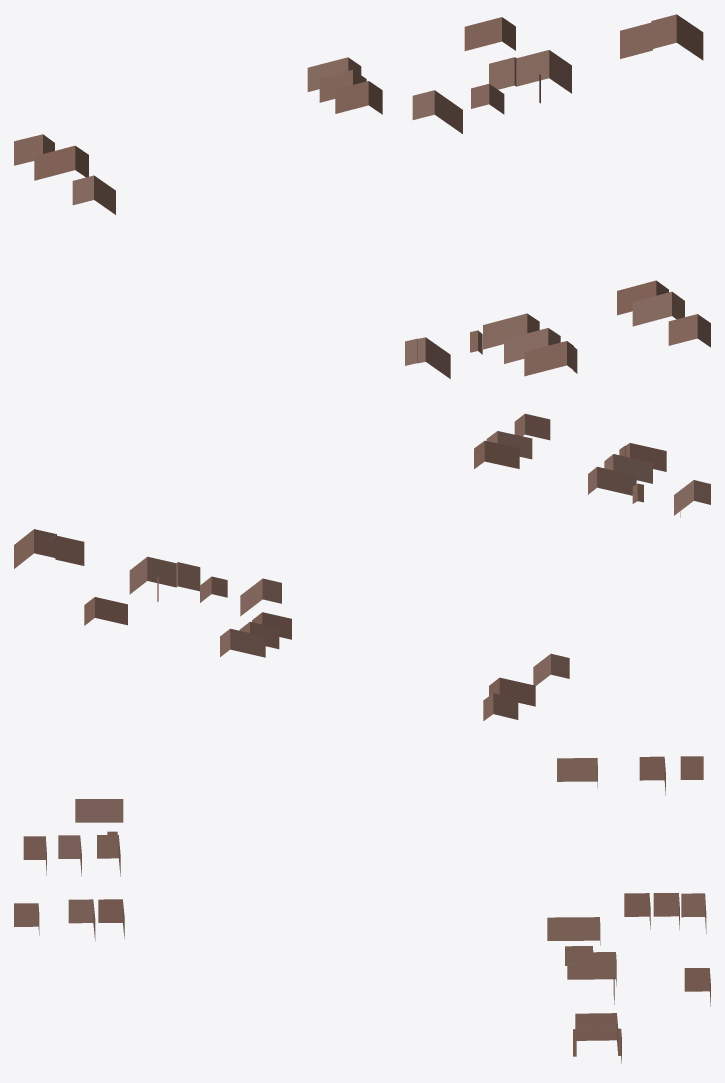
File: c_1633_17824_buildings_residential.glb
3 renders of one model, top to bottom at view 1: azimuth 30°, elevation 25°; view 2: azimuth 150°, elevation 25°; view 3: azimuth 270°, elevation 25°, orthographic. The views are drawn at different scales.
Parts seen in each view (by area): view 1: geometry_0; view 2: geometry_0; view 3: geometry_0.
Boxes of the visible parts, x1,y1,x2,y2 form: geometry_0: (14,14,710,378); geometry_0: (14,413,710,720); geometry_0: (14,756,710,1063).
Bounding box in the file's own units: 252 × 13 × 255.
